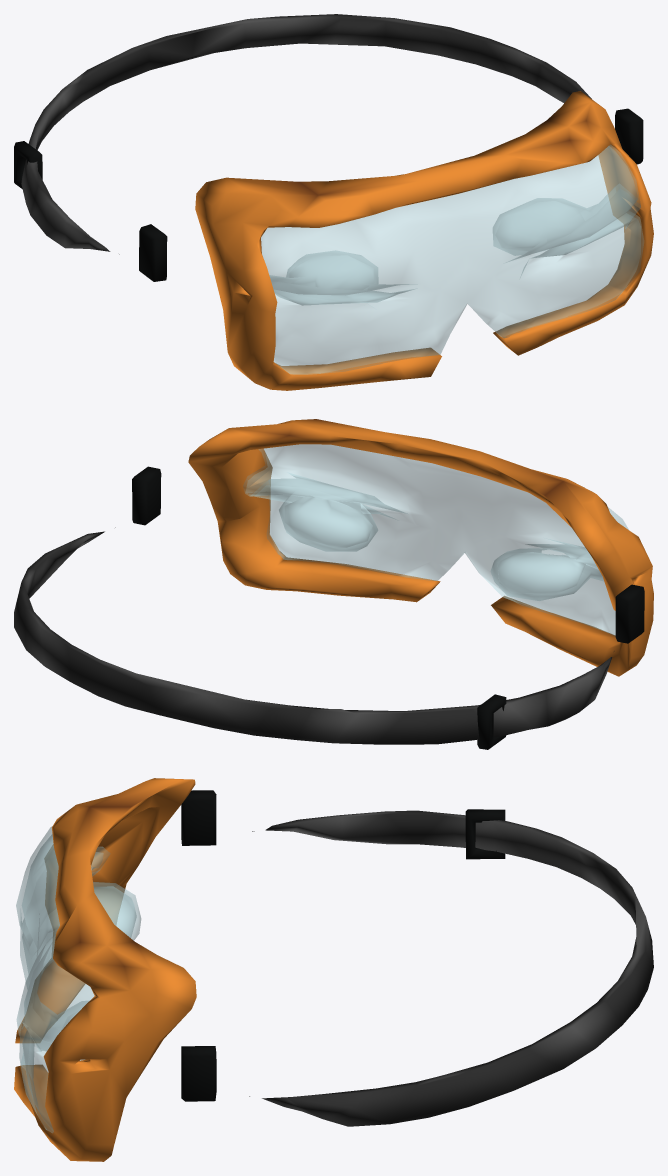
File: kinhbaoho.glb
The picture shows the model from 3 angles, top to bottom: view 1: azimuth 30°, elevation 25°; view 2: azimuth 150°, elevation 25°; view 3: azimuth 270°, elevation 25°; orthographic projection. The views are drawn at different scales.
Visible parts, largest first — view 1: Kinh_BH, Khung_BH, Day_Thun, Khoa_Day; view 2: Kinh_BH, Khung_BH, Day_Thun, Khoa_Day; view 3: Khung_BH, Day_Thun, Kinh_BH, Khoa_Day.
Boxes of the visible parts, x1=… form: Kinh_BH: x1=261, y1=145, x2=643, y2=374; Khung_BH: x1=195, y1=91, x2=653, y2=390; Day_Thun: x1=21, y1=14, x2=591, y2=254; Khoa_Day: x1=14, y1=108, x2=643, y2=281; Kinh_BH: x1=243, y1=444, x2=628, y2=636; Khung_BH: x1=188, y1=419, x2=653, y2=676; Day_Thun: x1=14, y1=527, x2=614, y2=744; Khoa_Day: x1=132, y1=466, x2=644, y2=749; Khung_BH: x1=14, y1=778, x2=196, y2=1161; Day_Thun: x1=249, y1=810, x2=653, y2=1126; Kinh_BH: x1=16, y1=826, x2=141, y2=1132; Khoa_Day: x1=181, y1=790, x2=505, y2=1101.
Bounding box in the file's own units: 0.2637 × 0.0841 × 0.2501.
